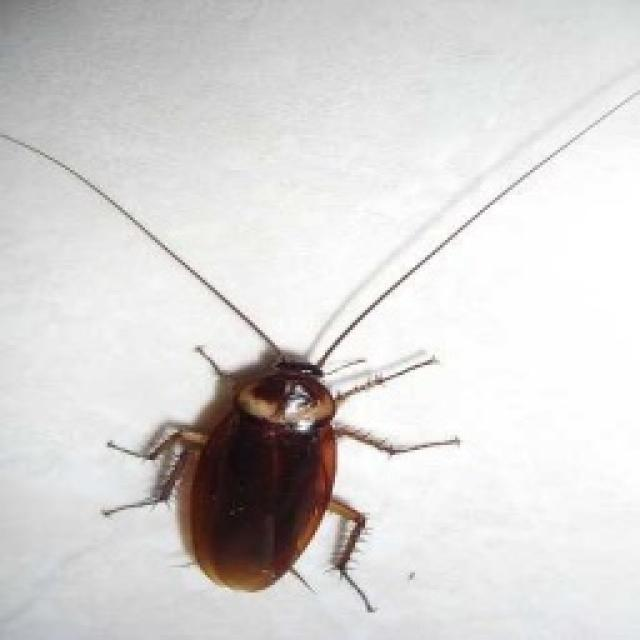cockroach: (120, 301, 422, 612)
